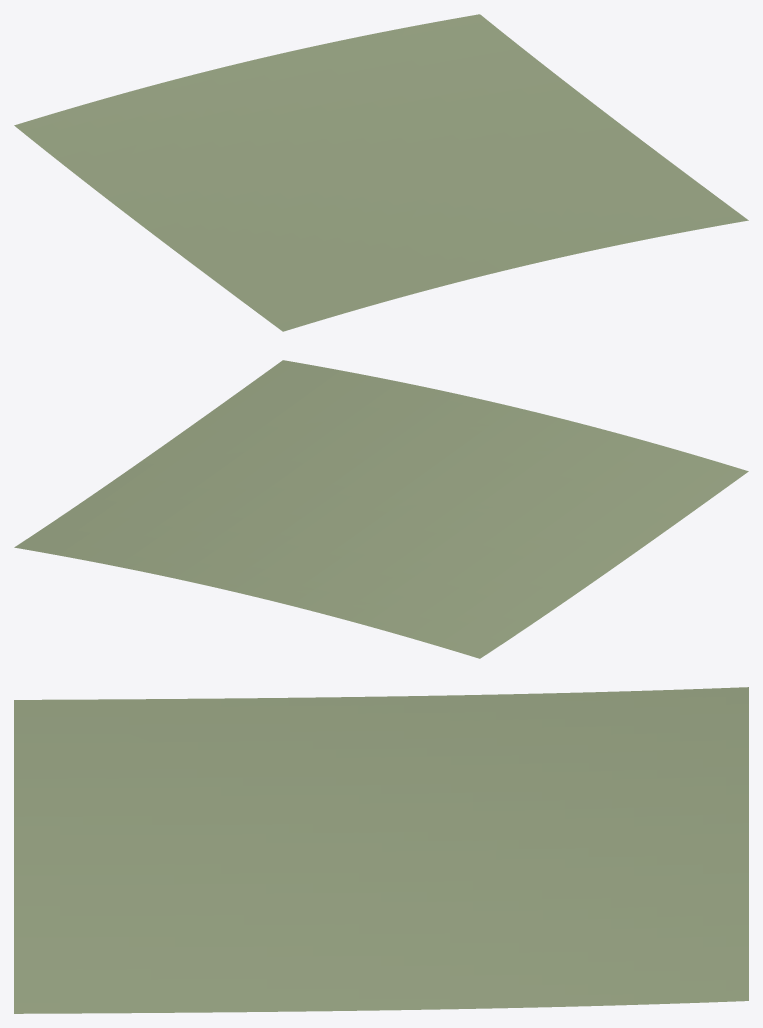
Rendered from valley-15-4.glb.
3 renders of one model, top to bottom at view 1: azimuth 30°, elevation 25°; view 2: azimuth 150°, elevation 25°; view 3: azimuth 270°, elevation 25°, orthographic. The views are drawn at different scales.
Parts seen in each view (by area): view 1: valley-15-4; view 2: valley-15-4; view 3: valley-15-4.
Part boxes in pixels (box(x1,y1,x2,y2)): valley-15-4: box(14, 14, 748, 331); valley-15-4: box(14, 360, 748, 658); valley-15-4: box(14, 687, 748, 1013).
Bounding box in the file's own units: 256 × 9.96 × 256.
